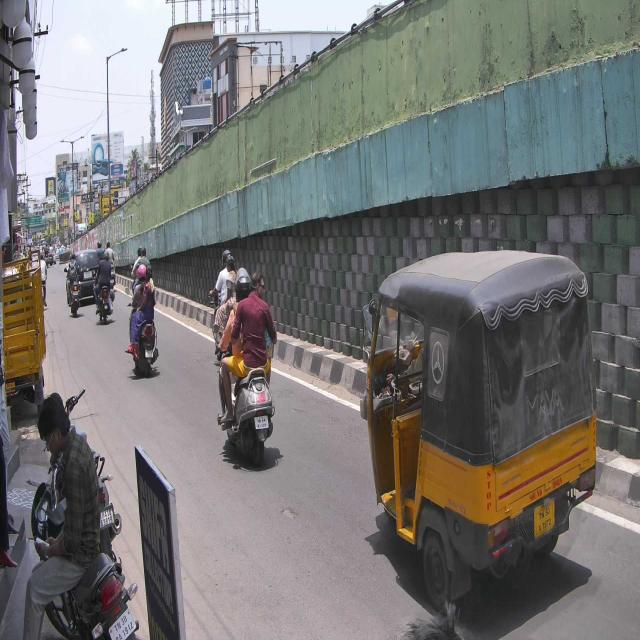double_rider: (214, 268, 278, 468)
